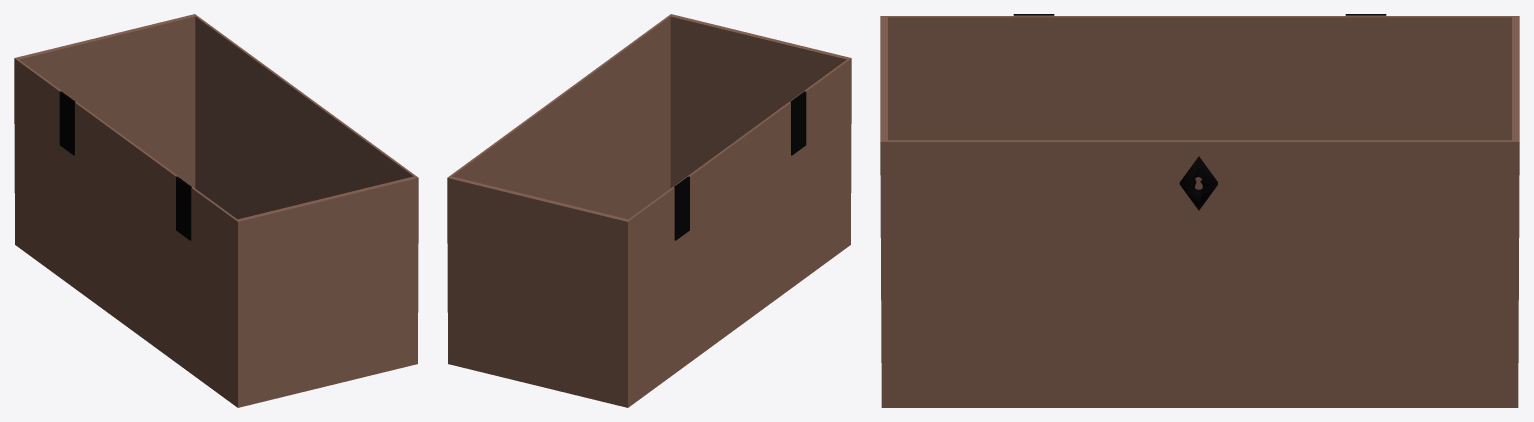
Rendered from CHESTBase.fbx.
3 views of the same model, side by side, from view 1: azimuth 30°, elevation 25°; view 2: azimuth 150°, elevation 25°; view 3: azimuth 270°, elevation 25° (orthographic). The views are drawn at different scales.
Parts seen in each view (by area): view 1: Cube; view 2: Cube; view 3: Cube.
Boxes of the visible parts, x1=… form: Cube: x1=14, y1=14, x2=418, y2=407; Cube: x1=447, y1=14, x2=851, y2=407; Cube: x1=880, y1=14, x2=1519, y2=407.
Bounding box in the file's own units: 210 × 203 × 440.
